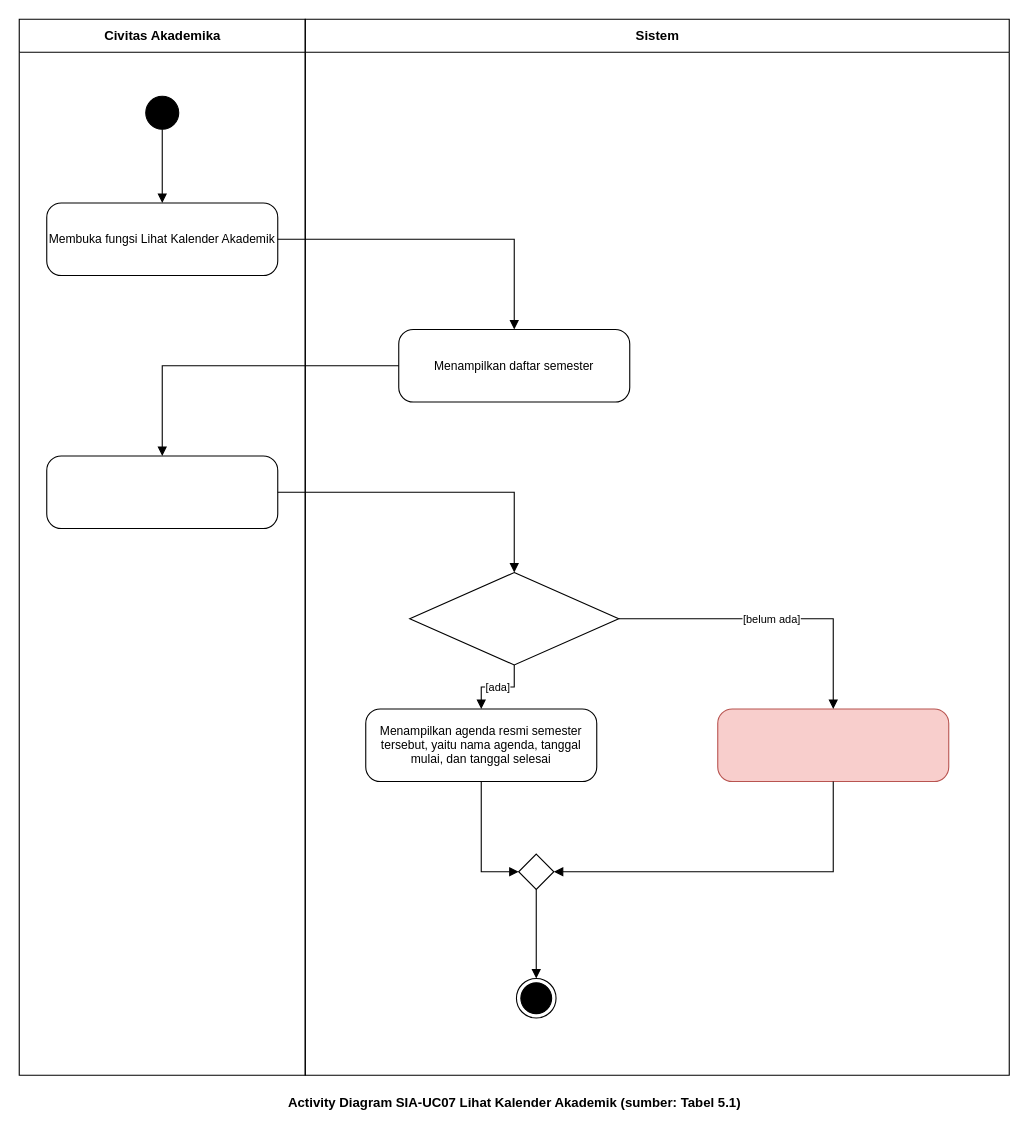
Image size: 1029x1139. Some labels were removed from this diagram. Each missing label, with the centre of its shape:
"Ada agenda pada semester yang dipilih?" goes at (514,618).
"Memilih semester" goes at (162,492).
"Menampilkan pesan belum ada agenda akademik pada semester tersebut" goes at (833,745).
